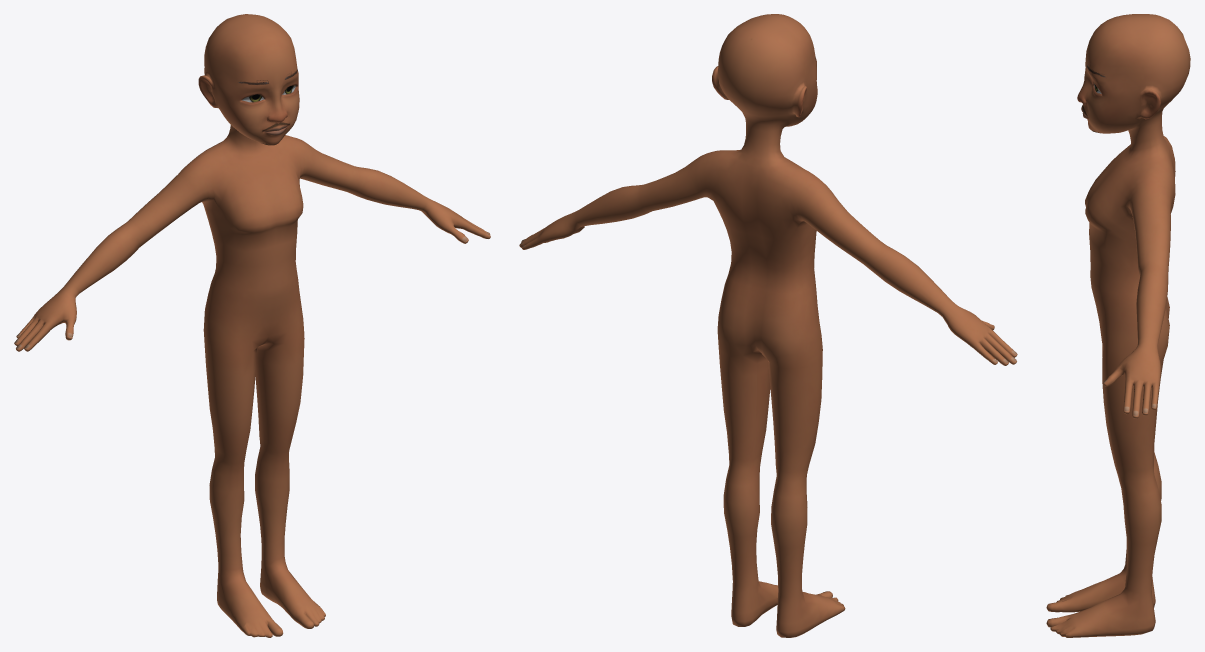
Rendered from frame_0003.glb.
3 views of the same model, side by side, from view 1: azimuth 30°, elevation 25°; view 2: azimuth 150°, elevation 25°; view 3: azimuth 270°, elevation 25° (orthographic). The views are drawn at different scales.
Parts seen in each view (by area): view 1: frame_0003_head_geo; view 2: frame_0003_head_geo; view 3: frame_0003_head_geo.
Boxes of the visible parts, x1=… form: frame_0003_head_geo: x1=14, y1=14, x2=490, y2=637; frame_0003_head_geo: x1=519, y1=14, x2=1017, y2=637; frame_0003_head_geo: x1=1046, y1=14, x2=1190, y2=637.
Size of the model in its own units: 1.28 by 1.5 by 0.3253.
3 materials, 3 textured.
